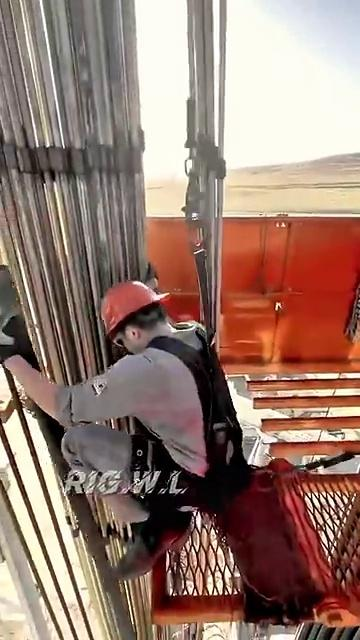gloves: (0, 312, 43, 387)
helmet: (88, 253, 183, 338)
shoes: (120, 493, 165, 597)
worker: (0, 188, 255, 632)
